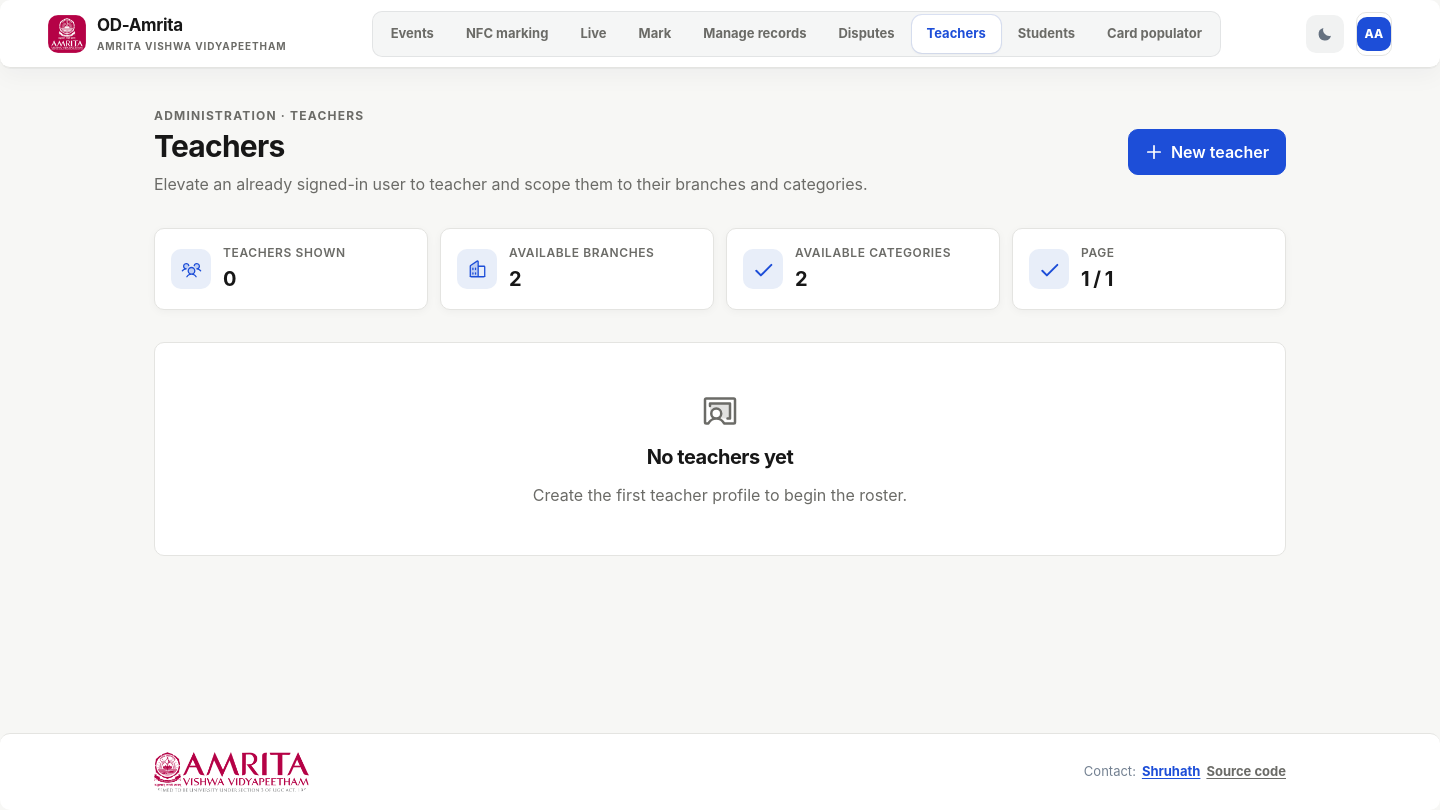
Admin teachers portal composition (ATDD red phase) › [P0] creates a teacher profile by email and branch selection, and sees it appear without a reload
Click the button "New teacher" at (1207,152), box [1128,129,1286,175]
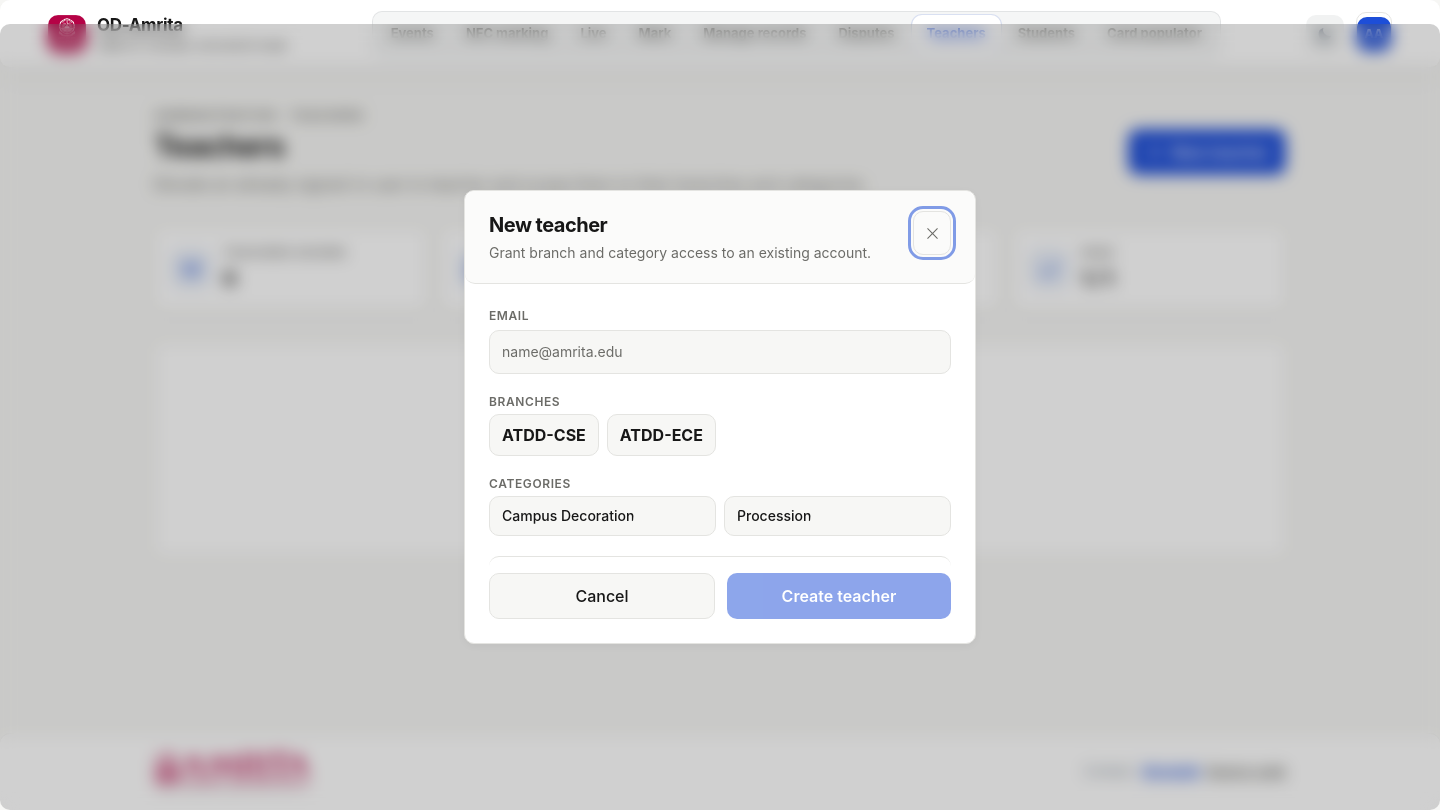
Type "new-teacher@amrita.edu" into the field labelled "Email" at (720,352), box [489,330,951,374]
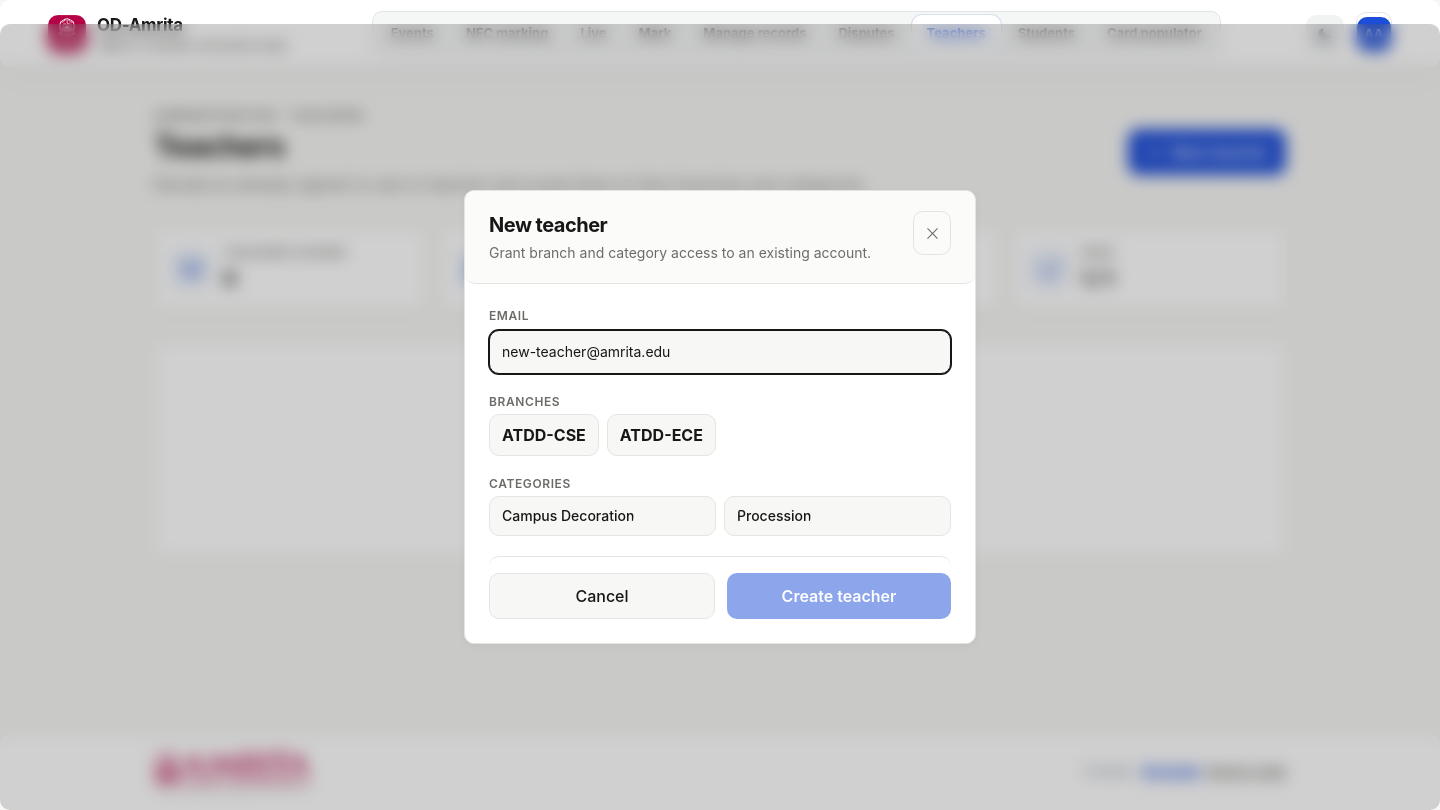
Click the checkbox named "Computer Science" at (544,435), box [489,414,599,456]
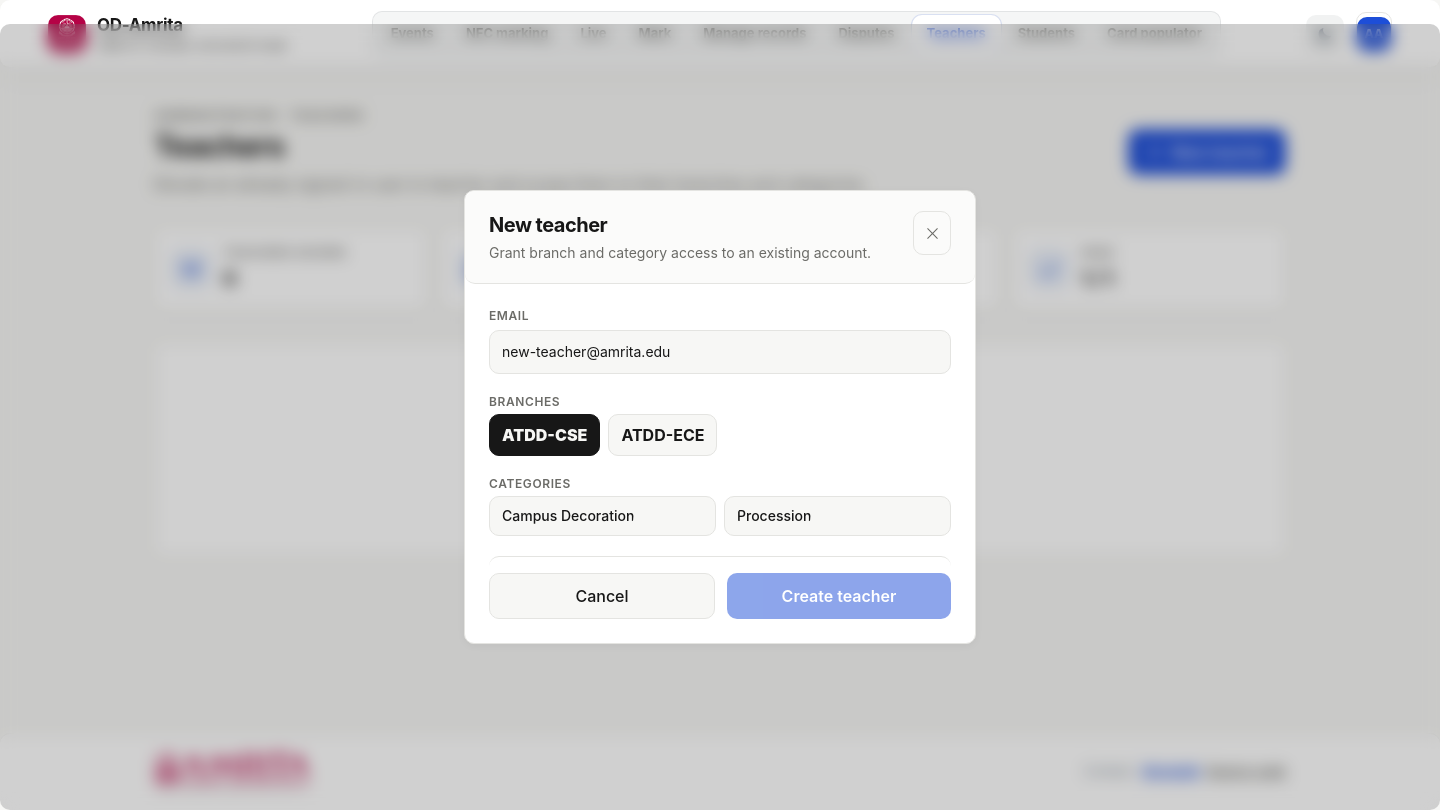
Click the checkbox labelled "Campus Decoration" at (602,516), box [489,496,716,536]
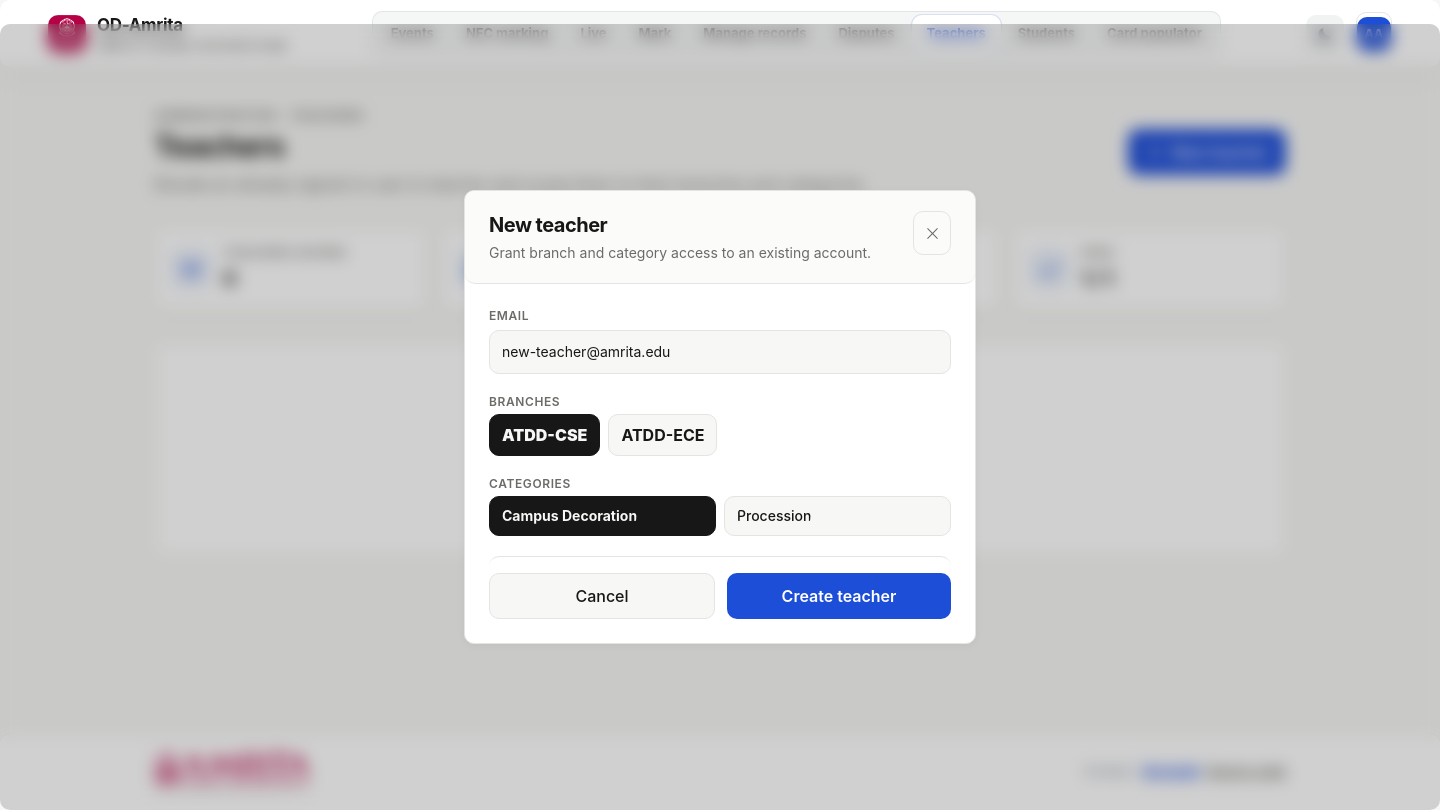
Click the button "Create teacher" at (839,596), box [727,573,951,619]
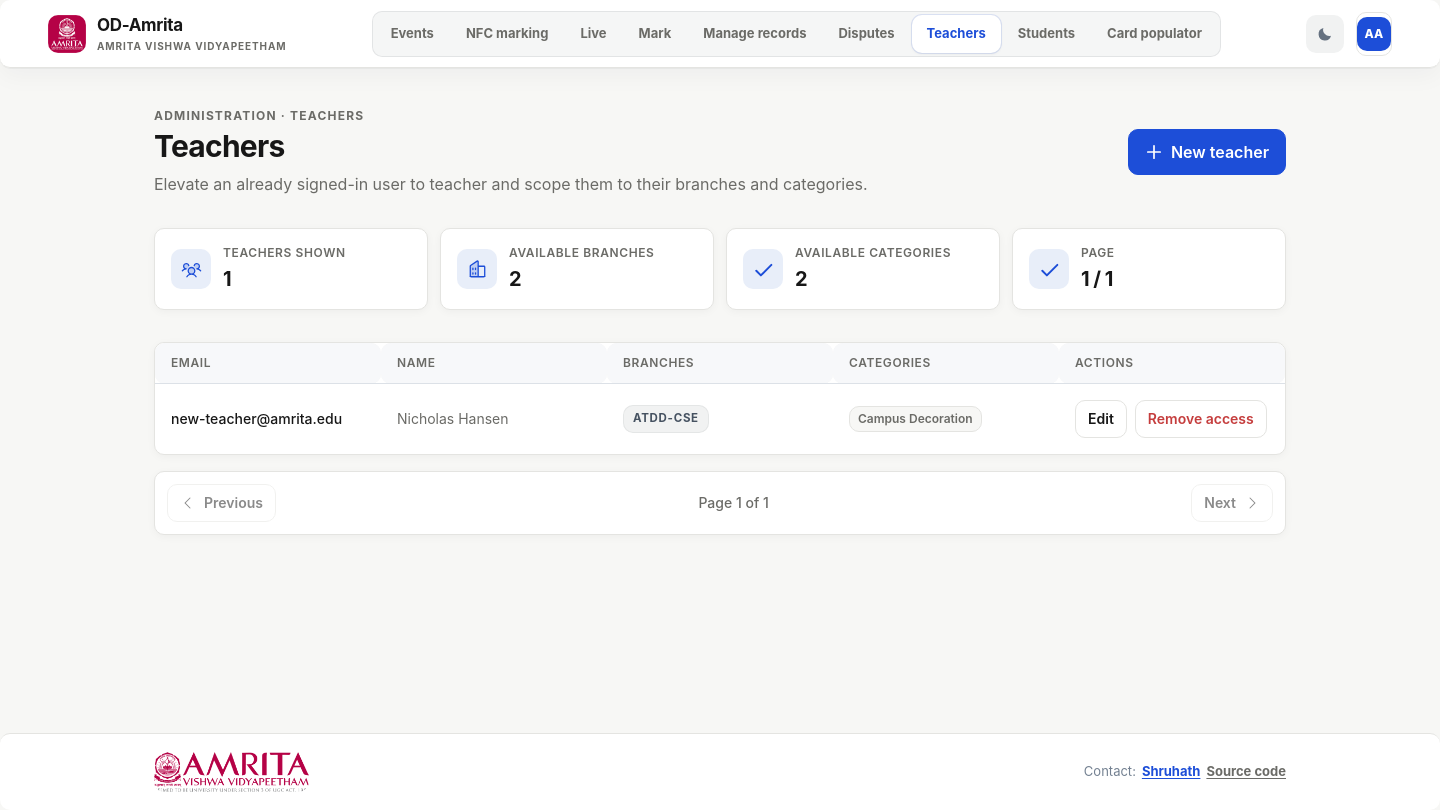
Expected: the row "new-teacher@amrita.edu" is shown, [155,384,1285,454]
